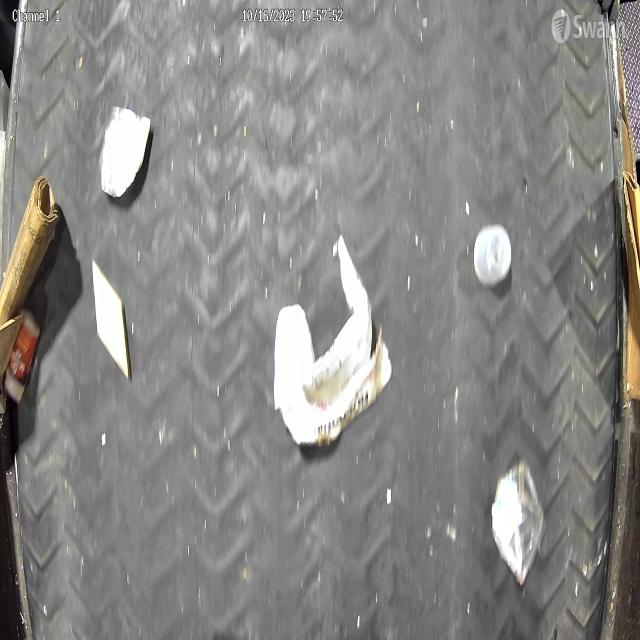can: (489, 449, 547, 589)
